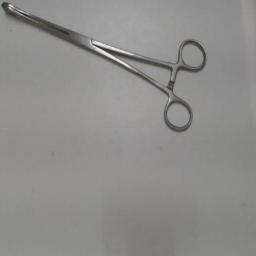Sponge Forceps: (0, 1, 212, 139)
